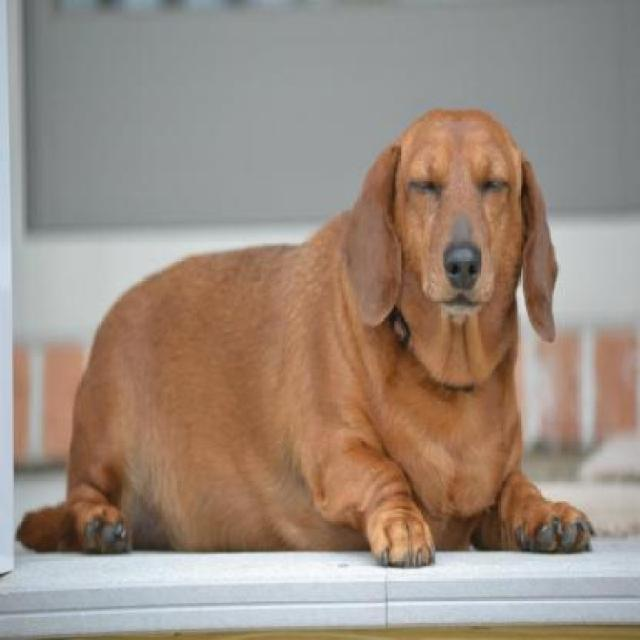Dog: (15, 104, 600, 574)
